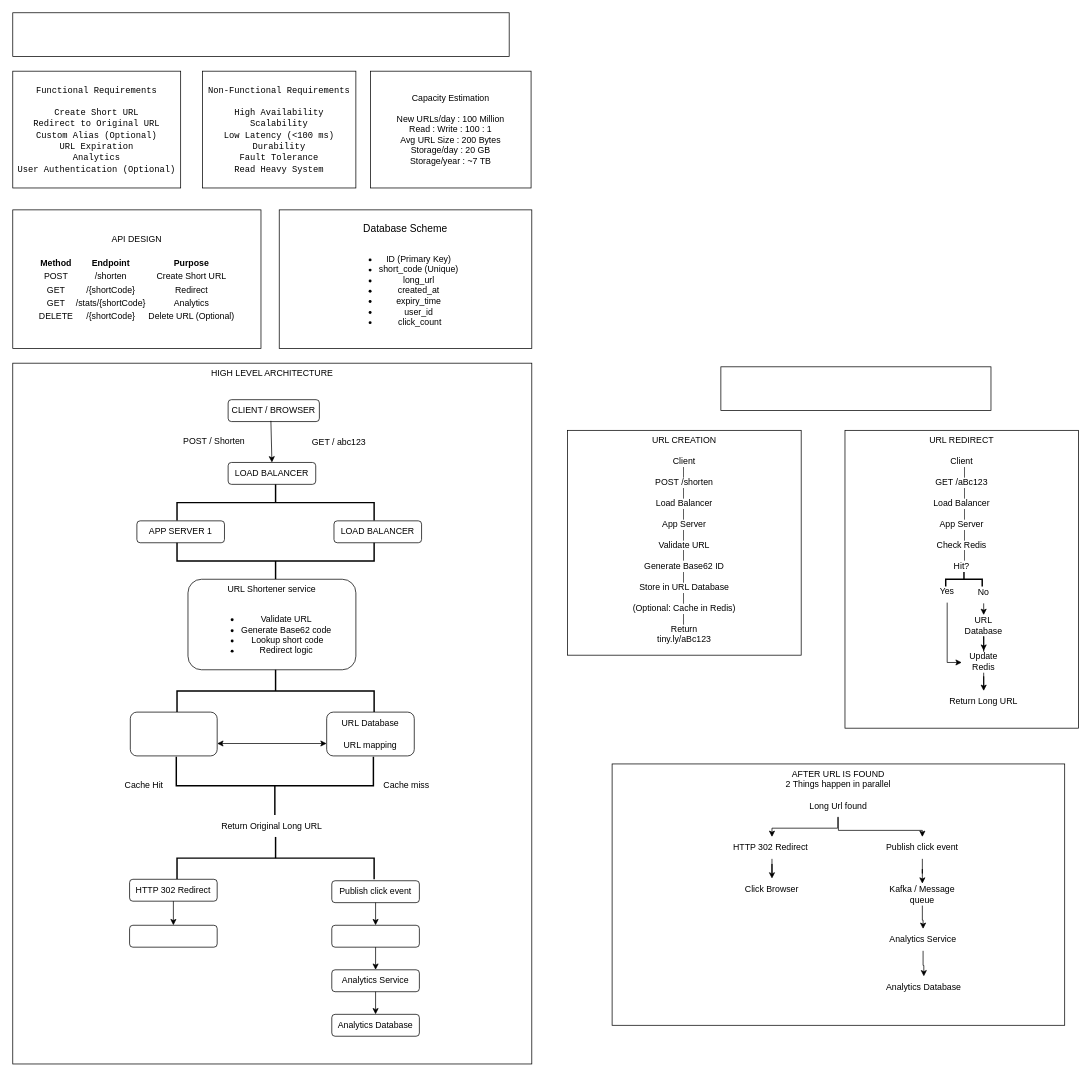
Some shapes in this 1091 by 1077 pixel diagram are drawn without their labels. The centre of each missing label's shape, as x and y in pixels:
Client Browser: (173,936)
FLOW EXPLANATION: (855,388)
Kafka / MQ: (375,936)
Redis Cache Short --> long: (173,733)
URL SHORTENER SYSTEM DESIGN: (260,34)
